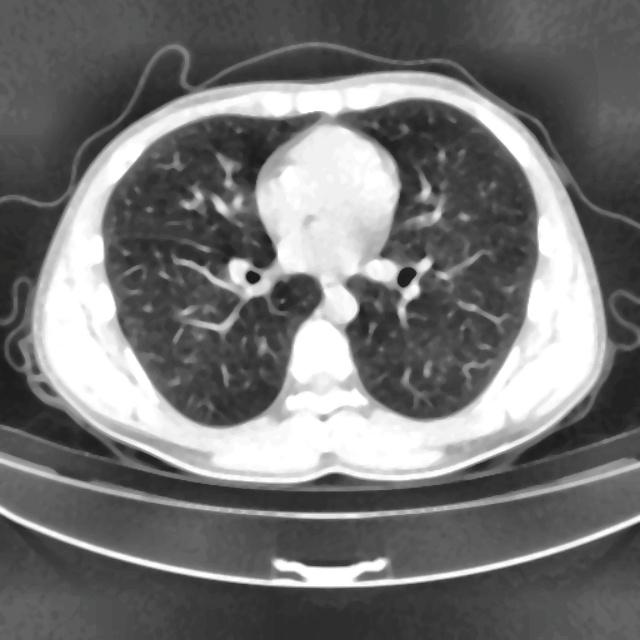covid: (27, 59, 610, 487)
